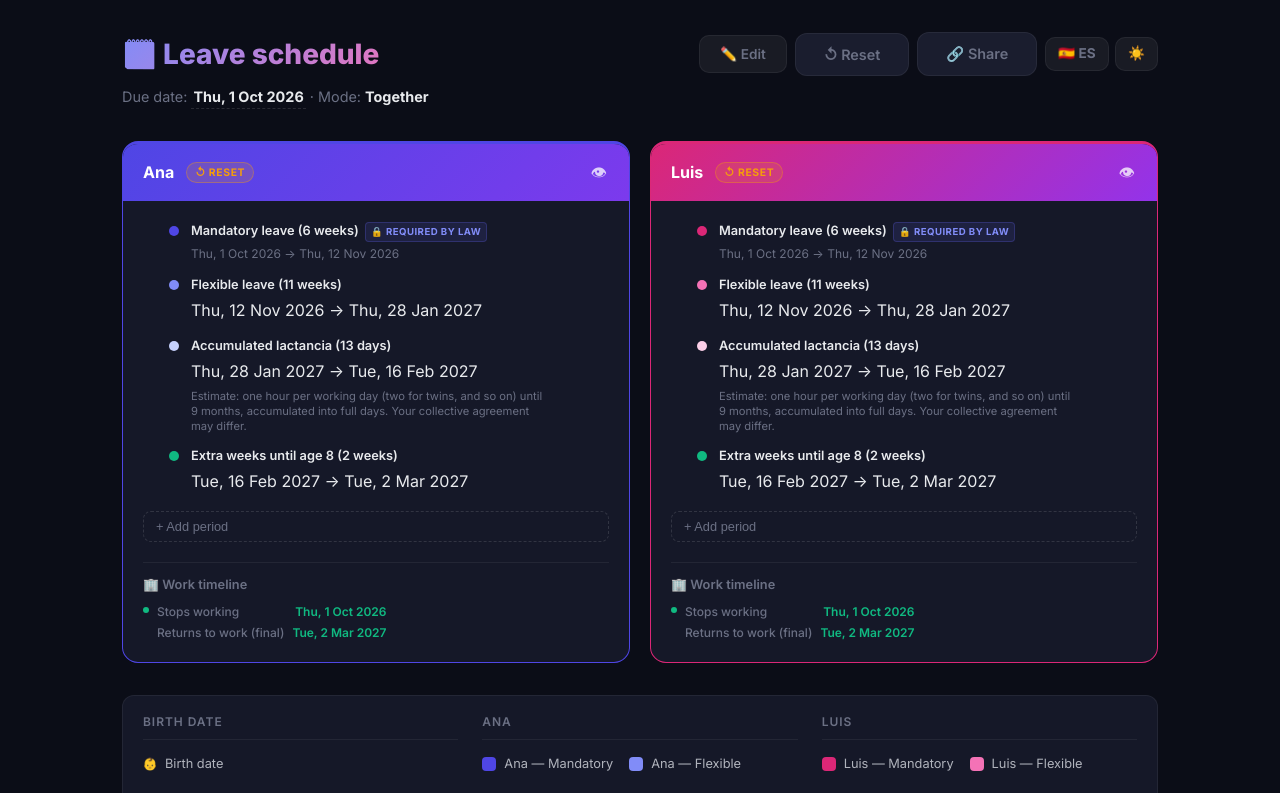
it: CalendarView — the add-extra form › seeds the duration from the unpaid preset
The width and height of the screenshot is (1280, 793).
Step 1. Click the 1st button with test id "add-period-btn" → {"x": 192, "y": 526}, box [143,511,609,542]
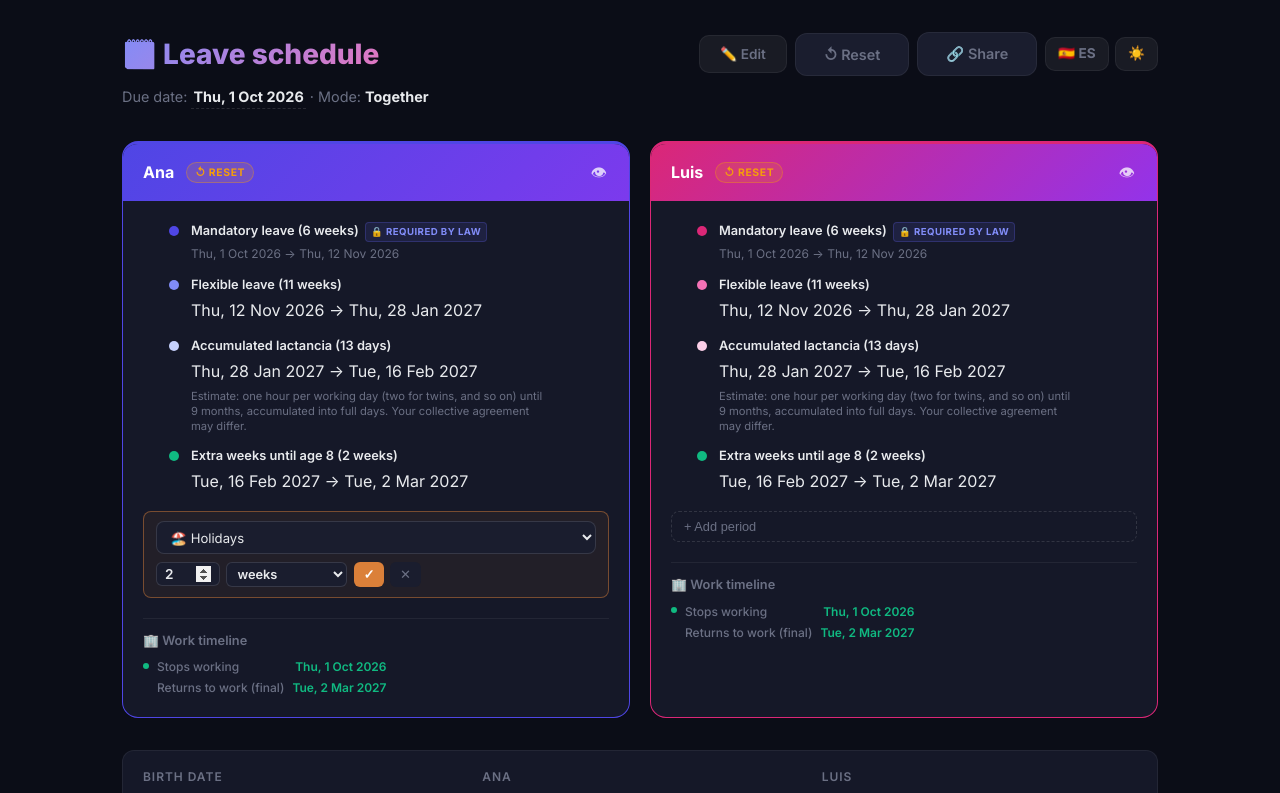
Step 2. Select "📋 Unpaid leave" in the dropdown named "Period type" → {"x": 376, "y": 538}, box [156,521,596,554]
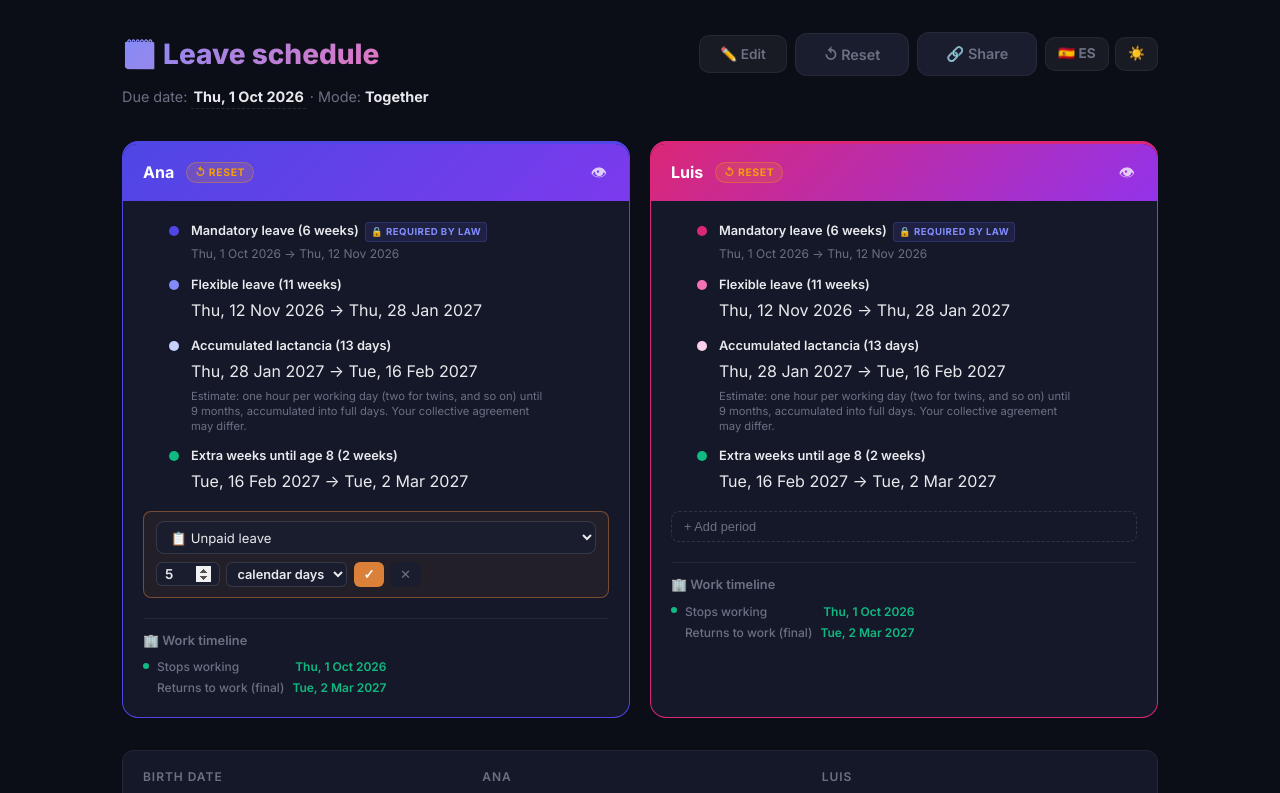
Result: the number field named "Duration" holds "5" at [156,562,220,586]
Result: the dropdown named "Duration unit" shows "calendar days" at [226,562,347,587]
